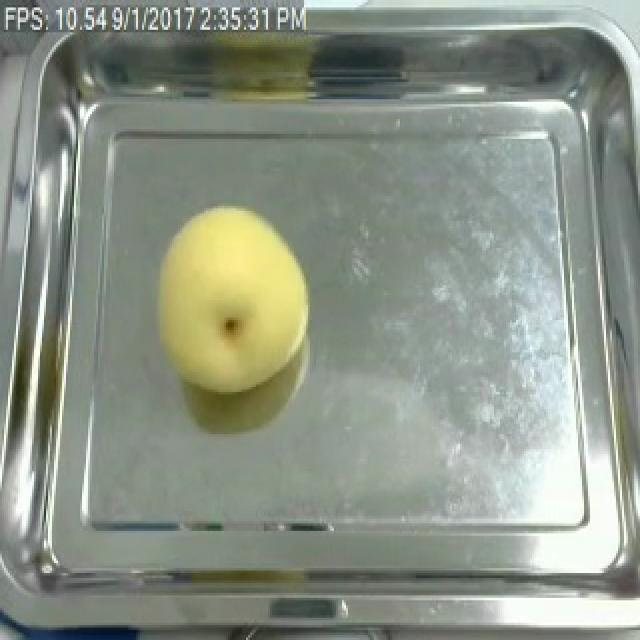Fruit: (144, 196, 322, 404)
